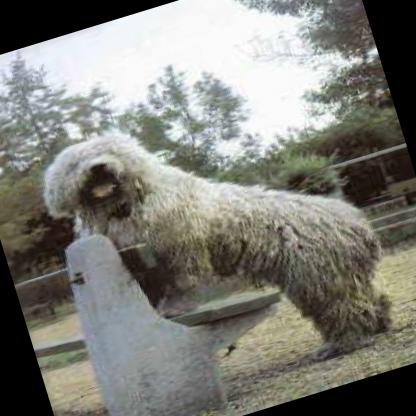komondor: (15, 43, 409, 416)
